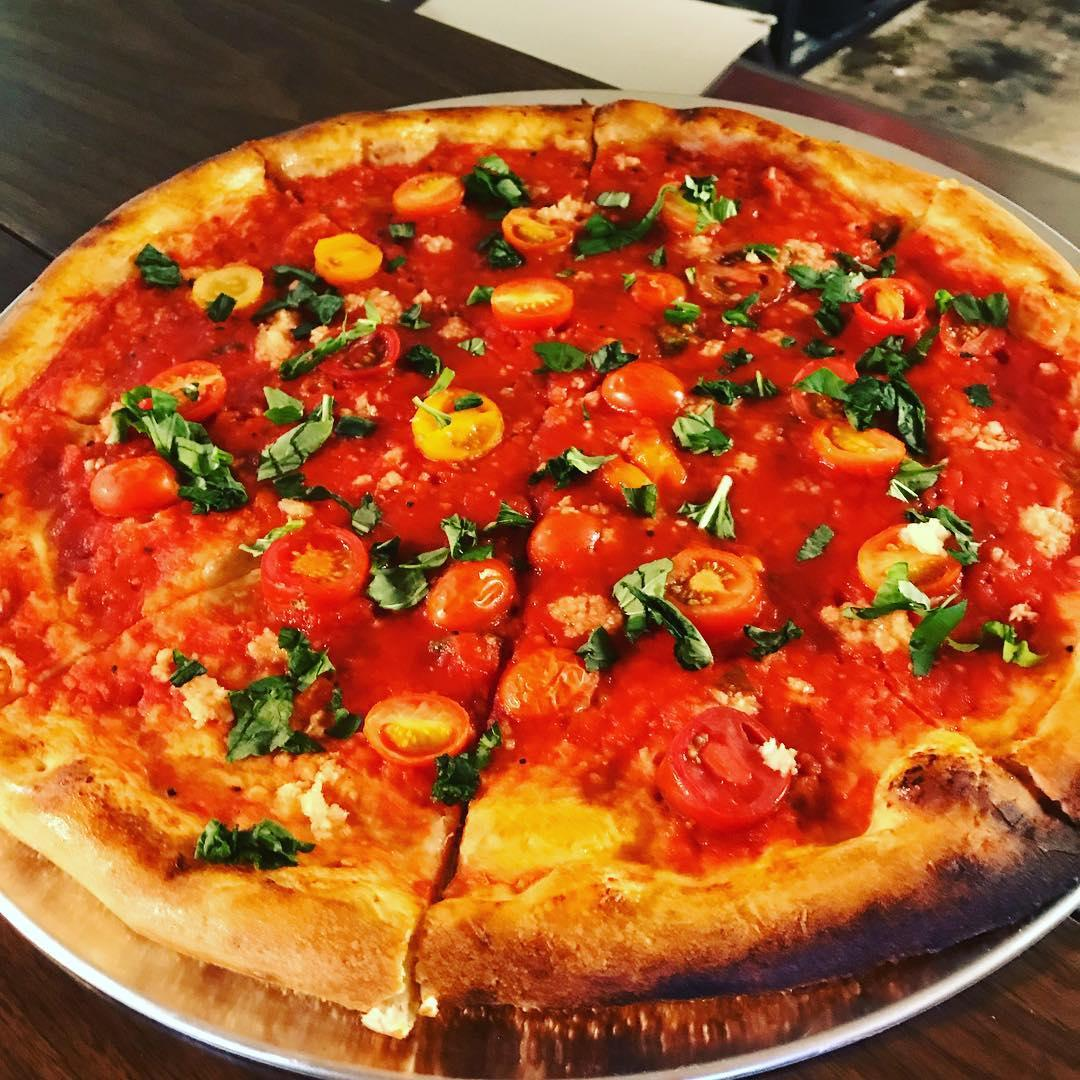Arugula: (225, 639, 345, 758), (178, 427, 333, 504), (601, 566, 696, 667), (810, 351, 928, 423), (279, 272, 335, 369), (588, 180, 660, 251), (372, 537, 430, 608), (681, 477, 744, 536), (539, 337, 632, 372), (467, 158, 529, 209), (711, 352, 779, 398), (940, 282, 1010, 318), (676, 412, 729, 453)
Pizza: (7, 110, 1080, 1003)
Tomatoes: (660, 707, 795, 833), (856, 522, 963, 610), (262, 525, 364, 600), (364, 695, 473, 762), (499, 649, 598, 720), (659, 549, 766, 613), (411, 391, 503, 464), (430, 557, 519, 630), (89, 455, 181, 516), (812, 417, 904, 478), (489, 277, 574, 333), (145, 361, 228, 418), (856, 277, 926, 343), (529, 508, 602, 571), (696, 260, 788, 309), (605, 363, 684, 418), (331, 323, 406, 380), (937, 308, 1002, 365), (393, 172, 465, 219), (314, 234, 384, 280), (500, 213, 572, 257), (195, 265, 269, 306), (666, 203, 724, 240)
